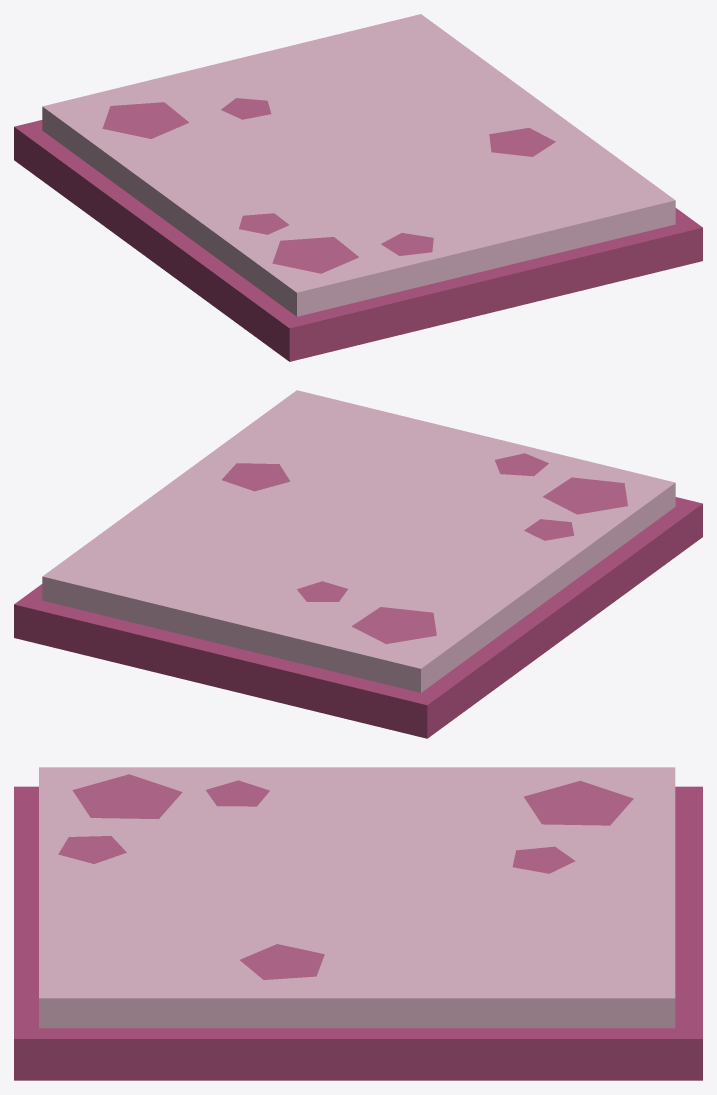
File: Commander_Platform.fbx
3 views of the same model, one above another, from view 1: azimuth 30°, elevation 25°; view 2: azimuth 150°, elevation 25°; view 3: azimuth 270°, elevation 25° (orthographic). The views are drawn at different scales.
Visible parts, largest first — view 1: Commander_Platform_Geo; view 2: Commander_Platform_Geo; view 3: Commander_Platform_Geo.
Part boxes in pixels (left/top/right/bottom): Commander_Platform_Geo: left=14, top=14, right=702, bottom=361; Commander_Platform_Geo: left=14, top=390, right=702, bottom=738; Commander_Platform_Geo: left=14, top=767, right=702, bottom=1080.
Bounding box in the file's own units: 335 × 44.57 × 386.
